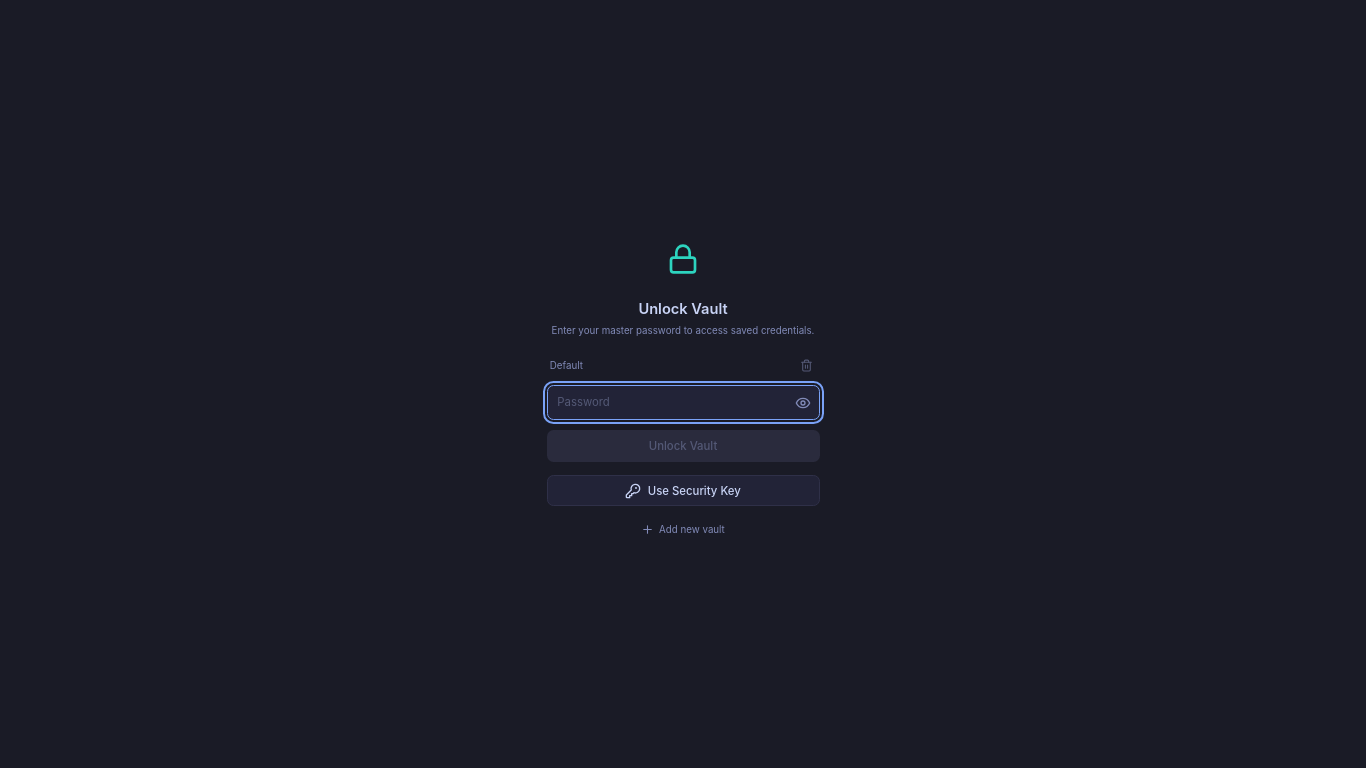
VaultUnlock › shows fido2Unavailable when the security-key button is used
Step 1. Click the button "Use Security Key" → {"x": 683, "y": 491}, box top-left (546, 475), bottom-right (820, 506)
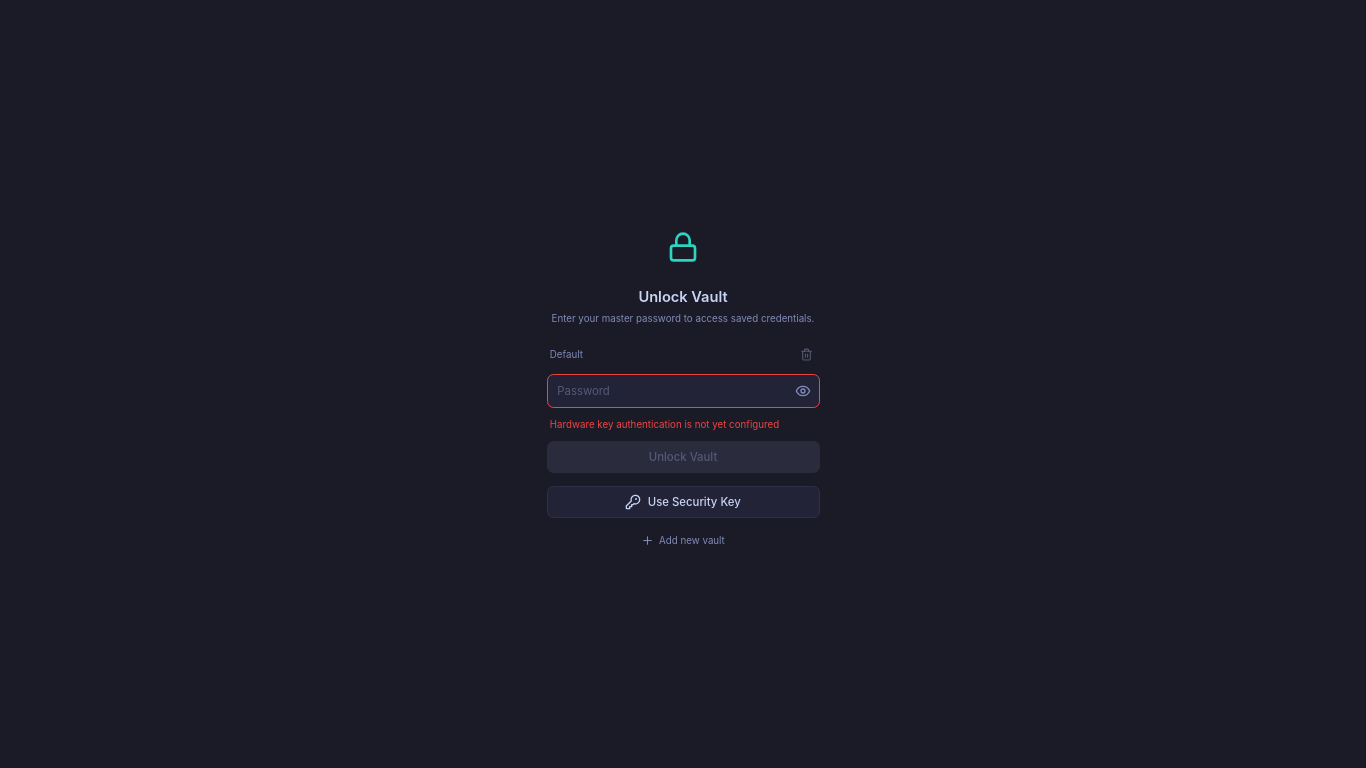
Check: the text "Hardware key authentication is not yet configured" is shown, box top-left (550, 419), bottom-right (779, 430)
